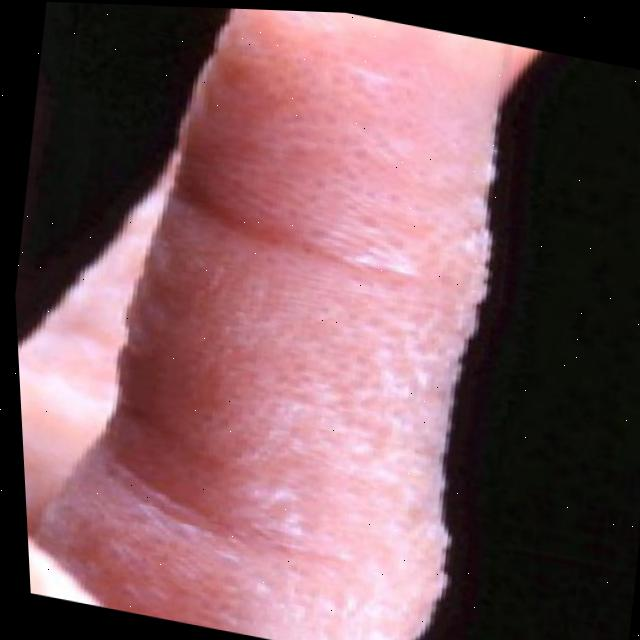Eczema: (61, 49, 552, 640)
